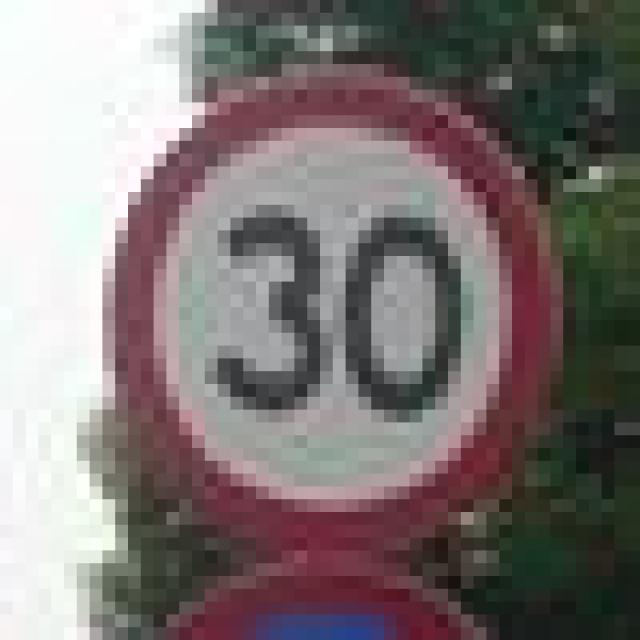SPEED_LIMIT_30: (77, 52, 550, 550)
